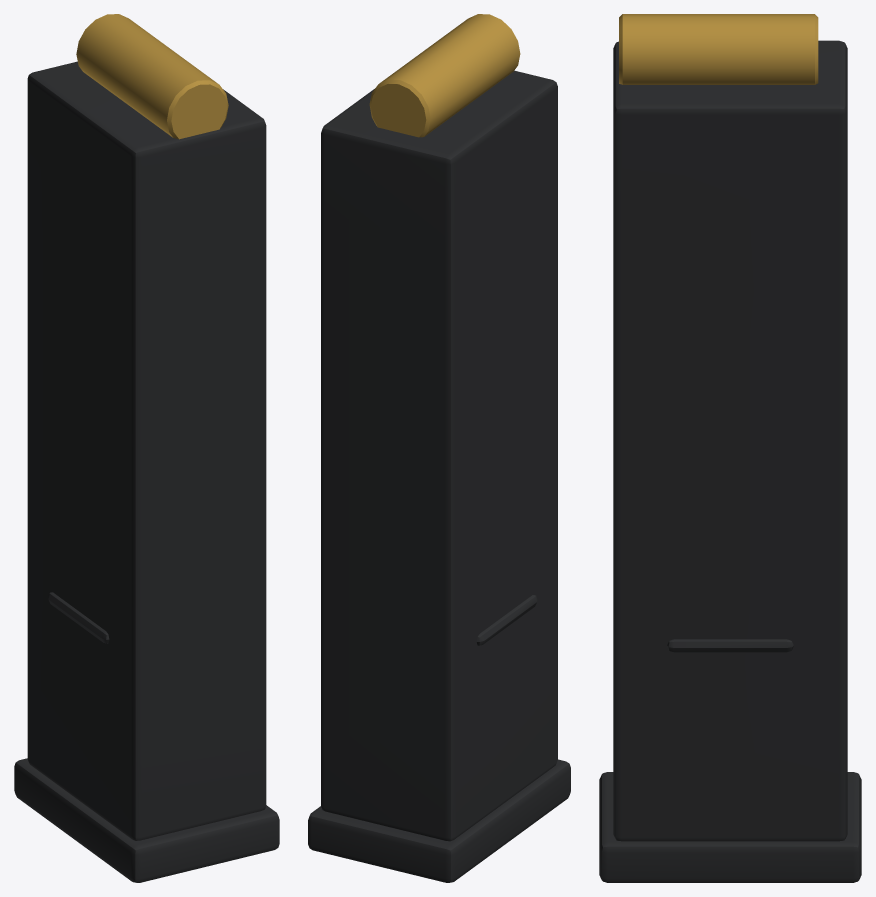
The model's file is mod_lancet_standard_mag.glb.
3 views of the same model, side by side, from view 1: azimuth 30°, elevation 25°; view 2: azimuth 150°, elevation 25°; view 3: azimuth 270°, elevation 25° (orthographic). The views are drawn at different scales.
Visible parts, largest first — view 1: Magazine, MagazineRound; view 2: Magazine, MagazineRound; view 3: Magazine, MagazineRound.
Part boxes in pixels (box(x1,y1,x2,y2)): Magazine: box(14, 61, 279, 882); MagazineRound: box(76, 14, 228, 139); Magazine: box(308, 70, 570, 882); MagazineRound: box(369, 14, 520, 137); Magazine: box(599, 40, 861, 882); MagazineRound: box(619, 14, 818, 84).
Size of the model in its own units: 0.0264 by 0.1328 by 0.038.
